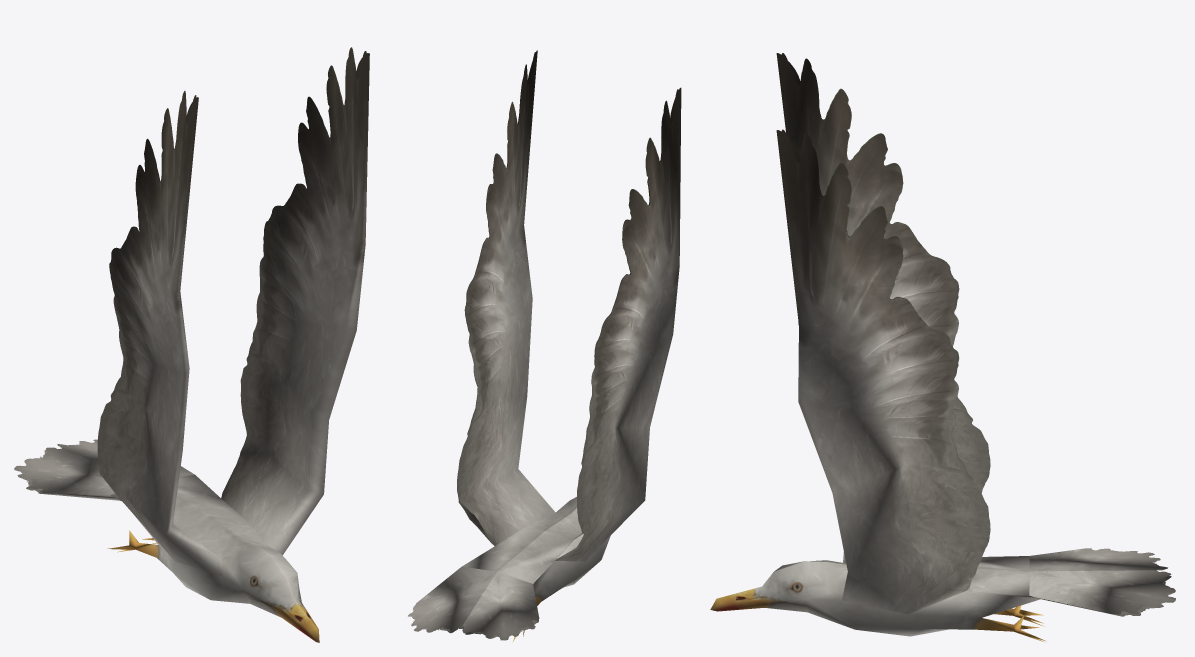
The model's file is seagull.obj.
The picture shows the model from 3 angles, left to right: view 1: azimuth 30°, elevation 25°; view 2: azimuth 150°, elevation 25°; view 3: azimuth 270°, elevation 25°; orthographic projection. The views are drawn at different scales.
Visible parts, largest first — view 1: Seagull_MESH_Mesh.002; view 2: Seagull_MESH_Mesh.002; view 3: Seagull_MESH_Mesh.002.
Boxes of the visible parts, bbox=[...] form: Seagull_MESH_Mesh.002: bbox=[14, 47, 369, 642]; Seagull_MESH_Mesh.002: bbox=[408, 50, 681, 642]; Seagull_MESH_Mesh.002: bbox=[710, 53, 1175, 642].
Size of the model in its own units: 0.1255 by 0.3912 by 0.2831.
